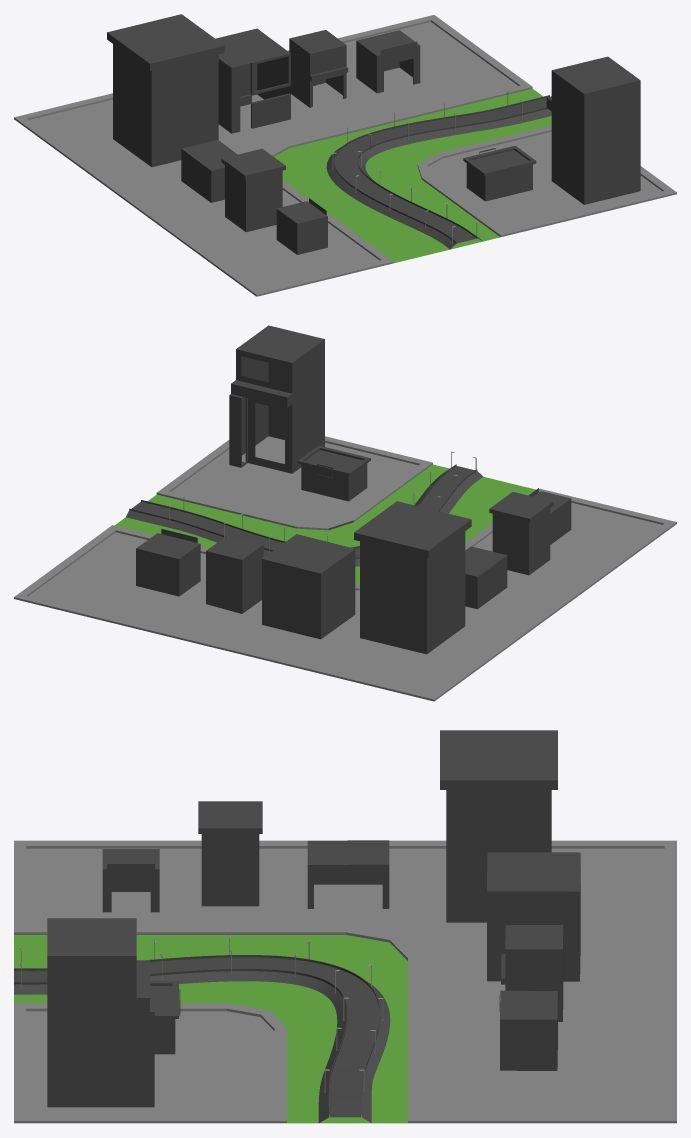
3 renders of one model, top to bottom at view 1: azimuth 30°, elevation 25°; view 2: azimuth 150°, elevation 25°; view 3: azimuth 270°, elevation 25°, orthographic. The views are drawn at different scales.
Visible parts, largest first — view 1: Cube.004; view 2: Cube.004; view 3: Cube.004.
Boxes of the visible parts, x1,y1,x2,y2 form: Cube.004: (14,14,676,296); Cube.004: (14,325,676,701); Cube.004: (14,730,676,1123).
Size of the model in its own units: 20000 by 5062 by 20000.
